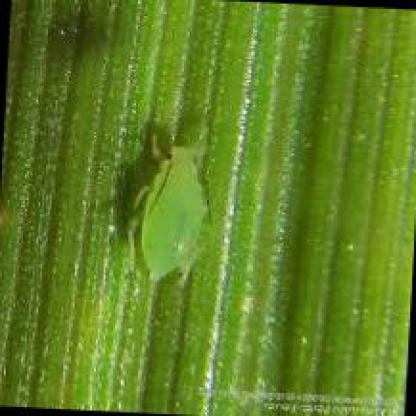schizaphis graminum: (127, 146, 207, 286)
